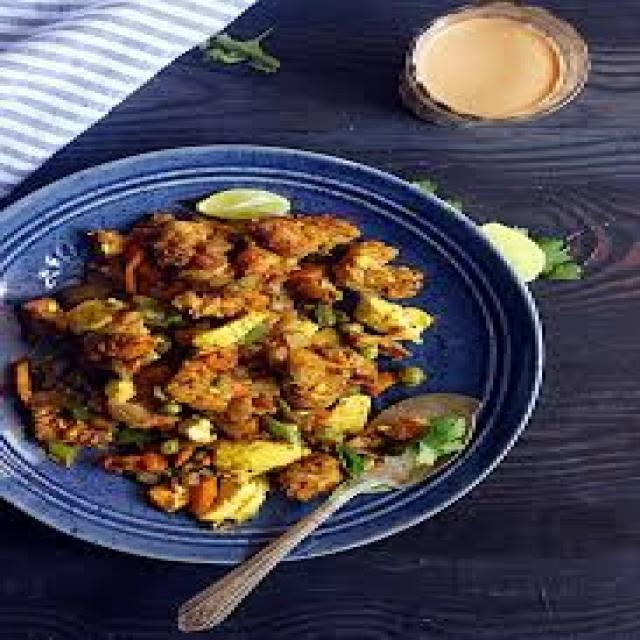BAJI: (7, 207, 427, 521)
